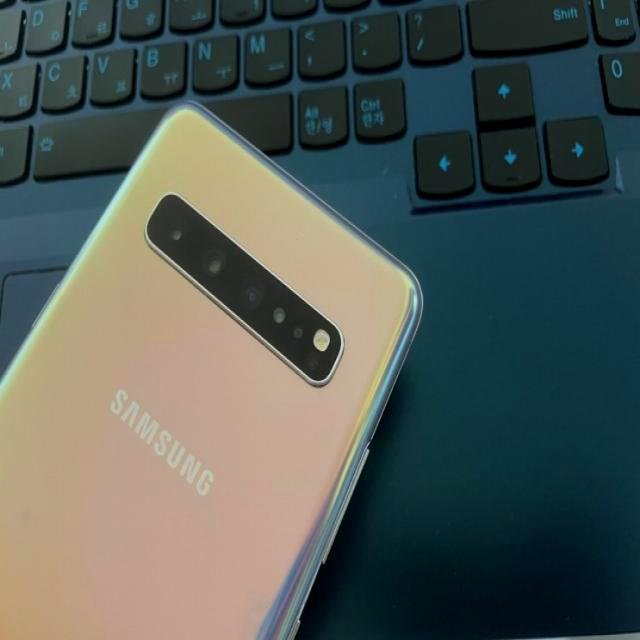phone: (0, 99, 430, 640)
